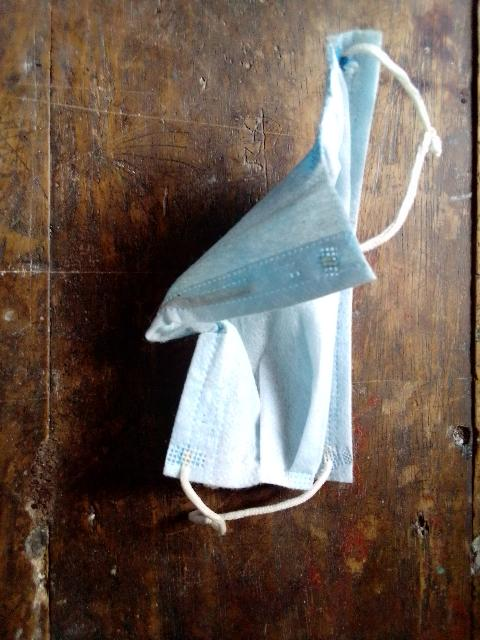mask: (135, 1, 456, 552)
